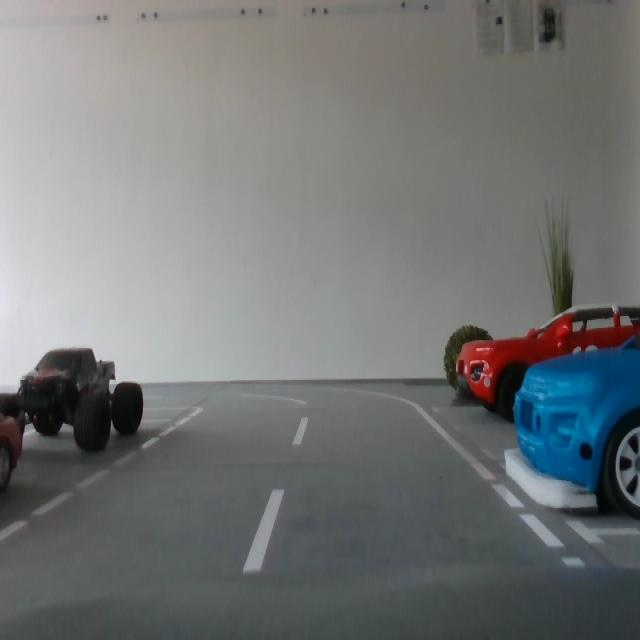car: (513, 332, 640, 518), (456, 304, 640, 422), (17, 347, 147, 459), (1, 392, 27, 493)
potted plant: (537, 197, 577, 367), (444, 324, 497, 395)
